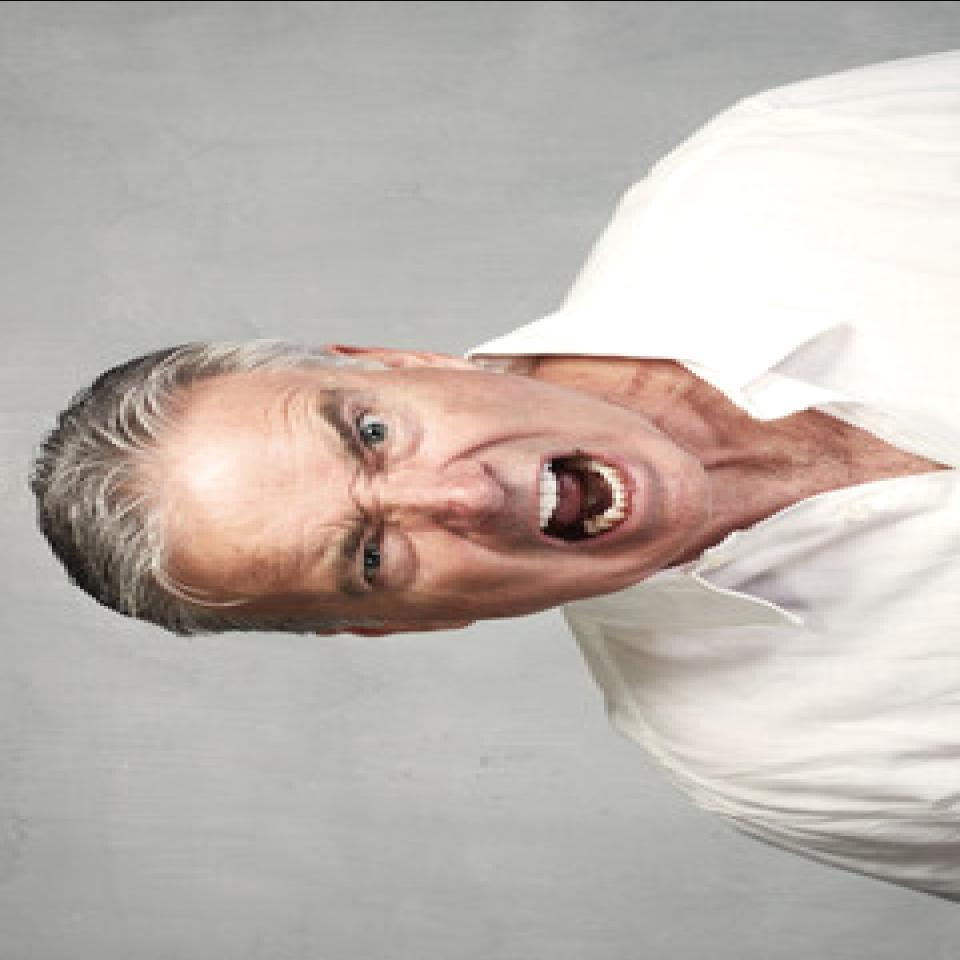Anger: (199, 370, 717, 620)
